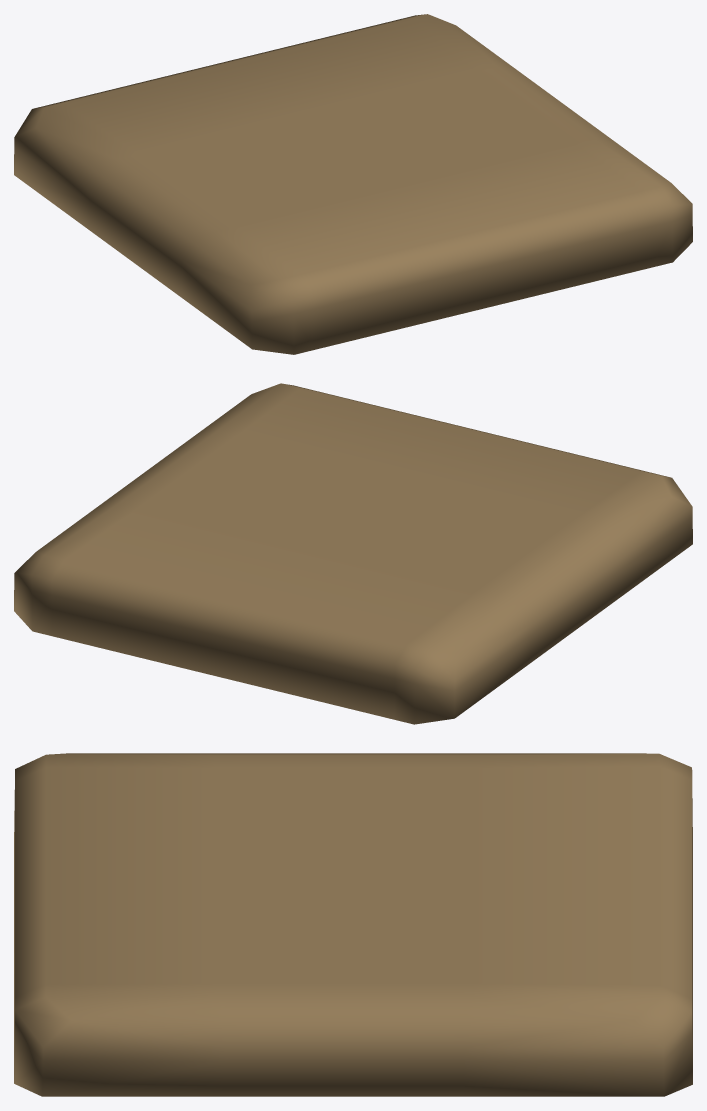
Rendered from suelo.fbx.
3 renders of one model, top to bottom at view 1: azimuth 30°, elevation 25°; view 2: azimuth 150°, elevation 25°; view 3: azimuth 270°, elevation 25°, orthographic. The views are drawn at different scales.
Parts seen in each view (by area): view 1: plataforma; view 2: plataforma; view 3: plataforma.
Boxes of the visible parts, x1,y1,x2,y2 form: plataforma: (14,14,692,354); plataforma: (14,383,692,724); plataforma: (14,753,692,1096).
Size of the model in its own units: 334 by 48.42 by 342.
